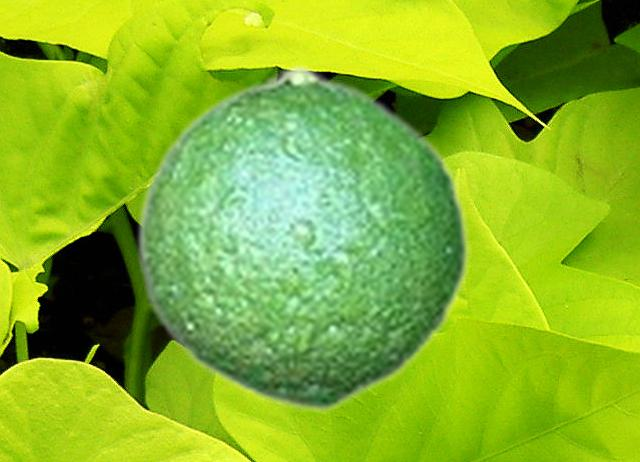dalandan: (133, 63, 470, 412)
